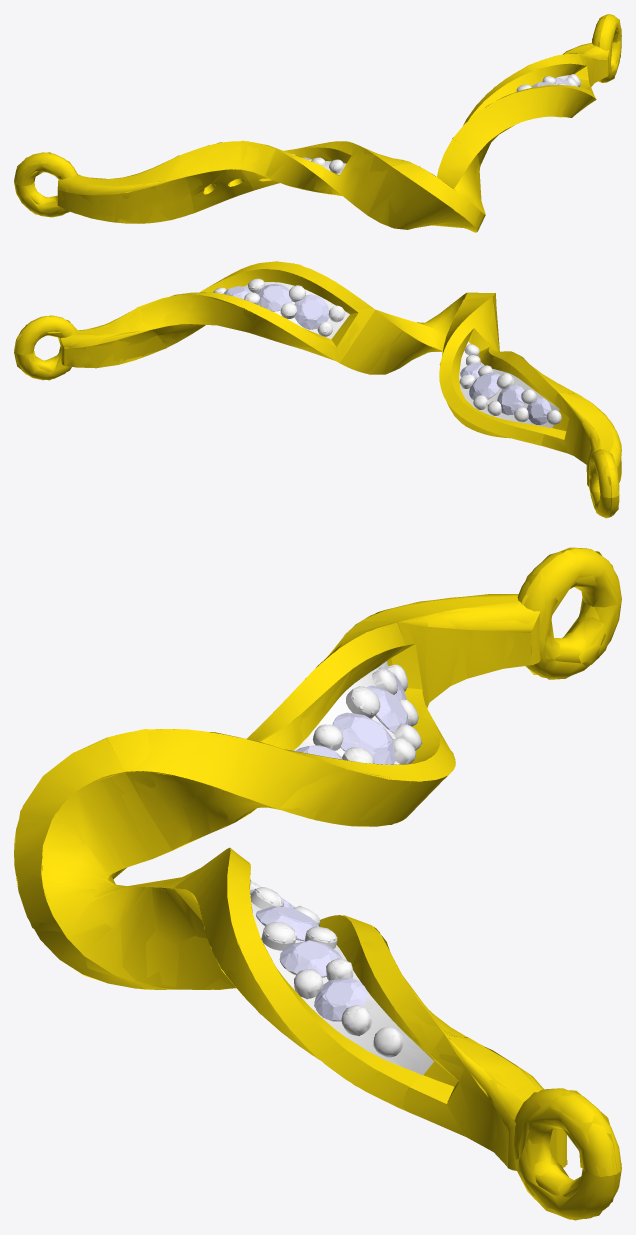
Rendered from DPN-D000621400.glb.
3 renders of one model, top to bottom at view 1: azimuth 30°, elevation 25°; view 2: azimuth 150°, elevation 25°; view 3: azimuth 270°, elevation 25°, orthographic. The views are drawn at different scales.
Parts seen in each view (by area): view 1: highPolyMesh, lowPolyMesh; view 2: highPolyMesh, lowPolyMesh; view 3: highPolyMesh, lowPolyMesh.
Boxes of the visible parts, x1,y1,x2,y2 form: highPolyMesh: (14, 14, 621, 231); lowPolyMesh: (14, 16, 621, 232); highPolyMesh: (14, 261, 621, 517); lowPolyMesh: (14, 261, 621, 518); highPolyMesh: (14, 547, 621, 1219); lowPolyMesh: (15, 549, 621, 1220).
Size of the model in its own units: 0.0283 by 0.00445 by 0.0124.
